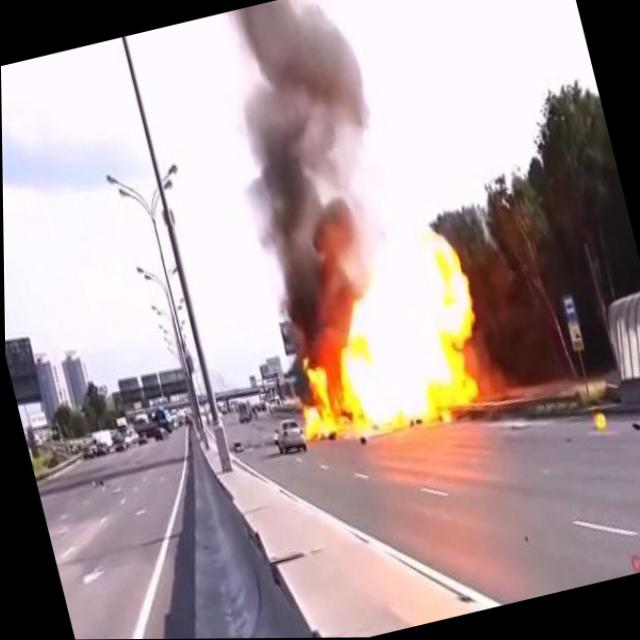fire: (256, 201, 508, 460), (589, 408, 608, 431)
